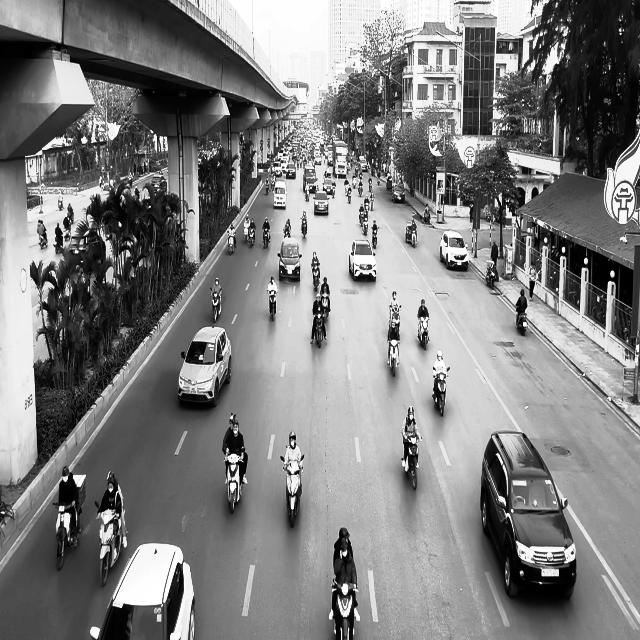bus: (333, 140, 348, 176)
car: (480, 430, 577, 599), (90, 542, 196, 640), (178, 325, 232, 407), (67, 229, 106, 270), (349, 238, 377, 281), (440, 230, 469, 270), (278, 237, 302, 281), (273, 181, 287, 209), (314, 191, 329, 214), (392, 184, 406, 202)
motorbike: (95, 500, 126, 586), (53, 500, 83, 571), (280, 453, 304, 528), (331, 578, 357, 640), (224, 451, 245, 514), (402, 434, 422, 490), (432, 366, 450, 417), (387, 334, 400, 376), (313, 310, 327, 348), (210, 286, 222, 322), (418, 316, 430, 350), (516, 306, 528, 335), (486, 260, 498, 288), (268, 289, 278, 321), (320, 294, 330, 320), (312, 262, 320, 290), (262, 225, 270, 248), (39, 229, 48, 249), (228, 232, 236, 254), (301, 217, 308, 238), (248, 228, 255, 248), (372, 226, 378, 248), (411, 227, 417, 248), (305, 185, 310, 201)
